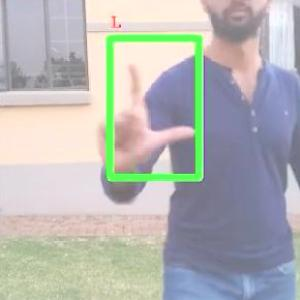land_hand: (89, 58, 201, 173)
